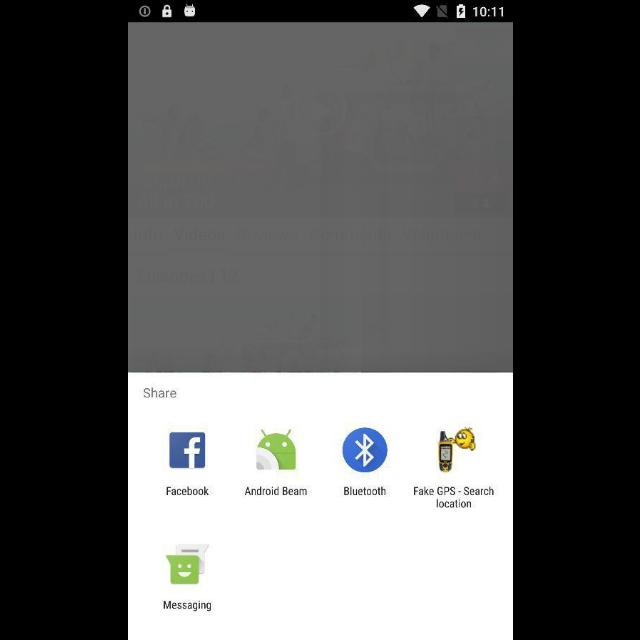icon: (341, 428, 387, 472), (168, 432, 206, 468)
image: (165, 543, 209, 585), (436, 427, 476, 473), (256, 429, 296, 471)
panel: (128, 374, 512, 640)
text: (412, 486, 493, 508), (244, 486, 306, 496), (163, 600, 211, 612), (343, 486, 385, 496), (166, 486, 208, 496), (143, 388, 177, 398)
uppertaskbar: (128, 1, 512, 23)
